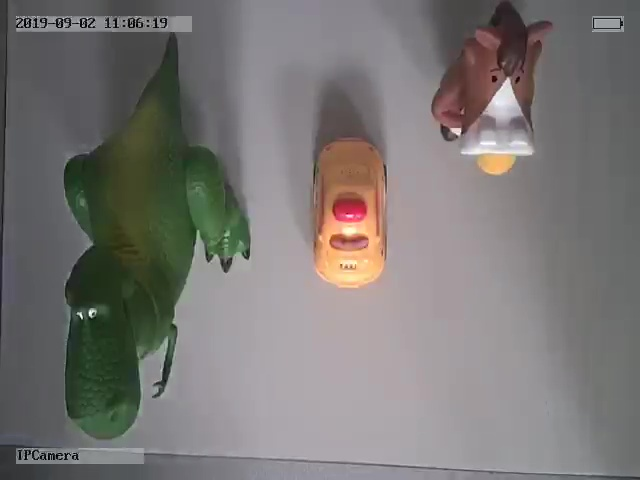car: (312, 137, 389, 286)
horse: (429, 1, 555, 175)
rex: (64, 43, 253, 439)
